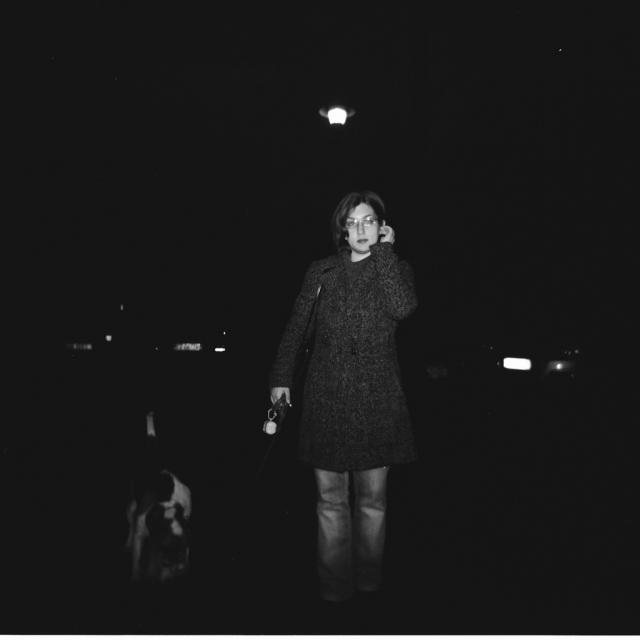dog: (104, 394, 213, 600)
